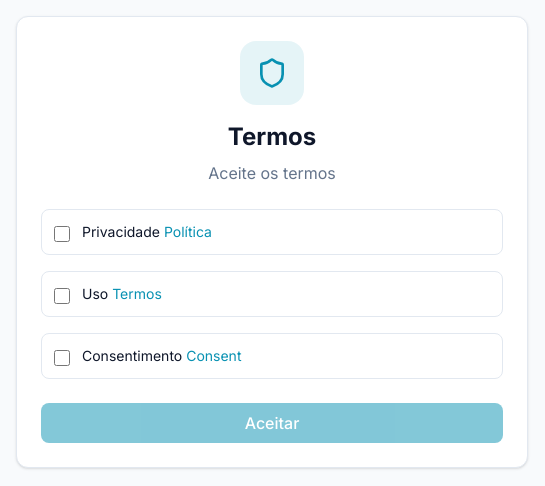
Test: ConsentModal › should enable submit when all checkboxes checked
The width and height of the screenshot is (545, 486).
Click the checkbox labelled "Privacidade Política" at (62,234), box top-left (54, 226), bottom-right (70, 242)
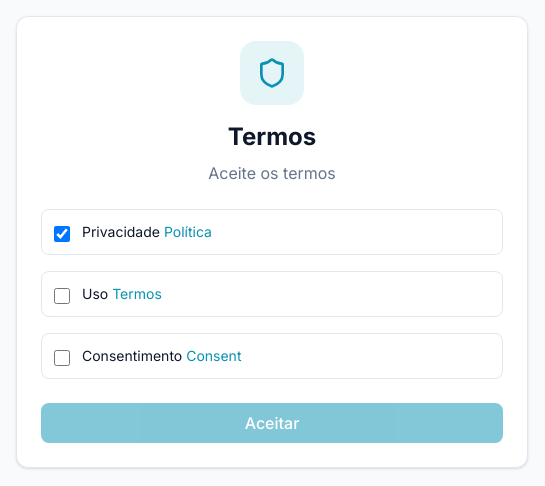
Click the checkbox labelled "Uso Termos" at (62,296), box top-left (54, 288), bottom-right (70, 304)
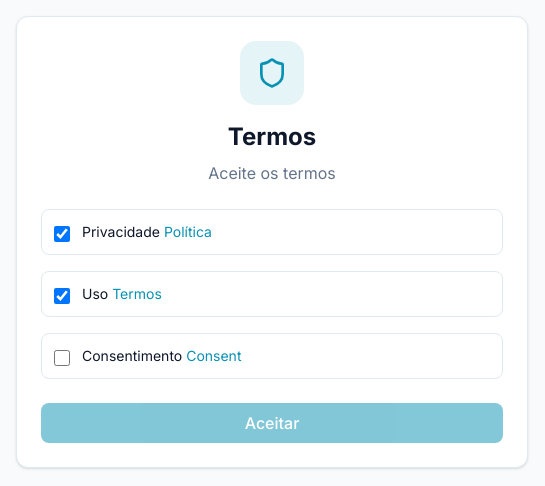
Click the checkbox labelled "Consentimento Consent" at (62,358), box top-left (54, 350), bottom-right (70, 366)
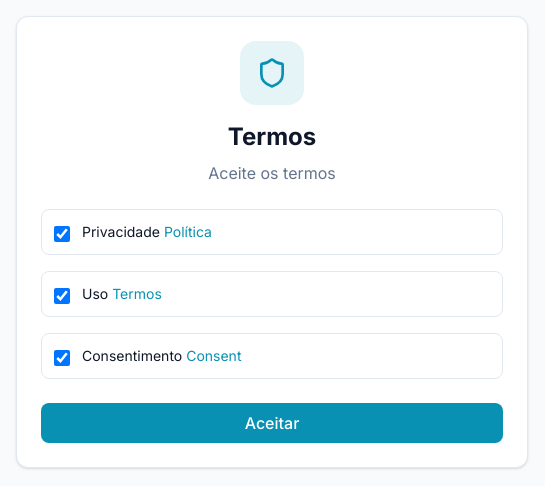
Expected: the button is enabled, top-left (41, 403), bottom-right (503, 443)
